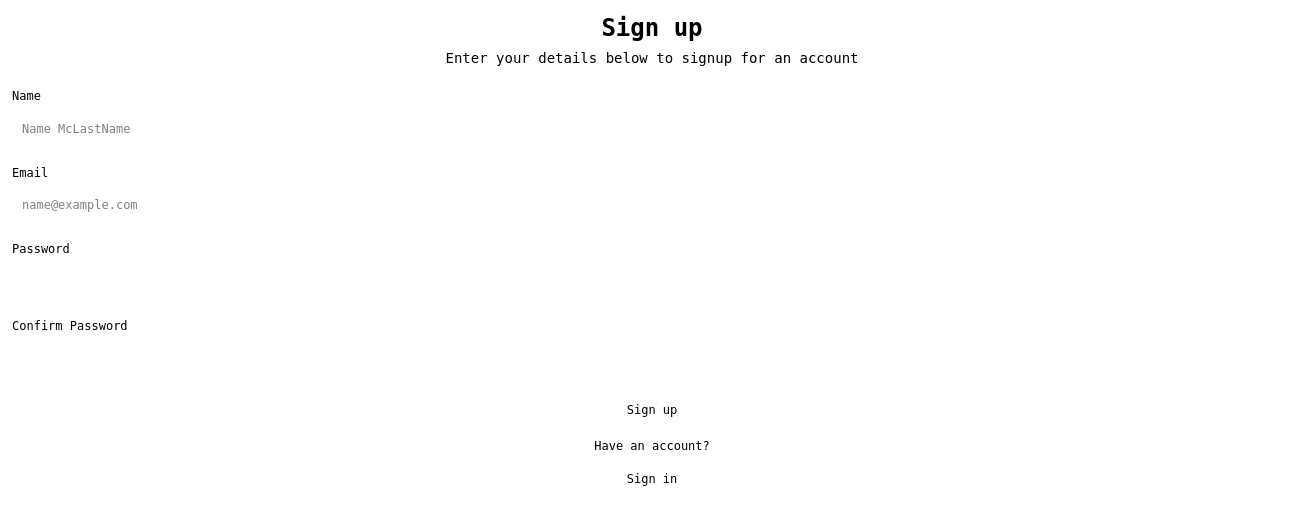
Test: SignupForm › validation › shows email error for invalid email
This screenshot has width=1304, height=527.
Type "invalid-email" into the field labelled "Email".
click(652, 205); type("invalid-email")  # box [12,189,1292,221]
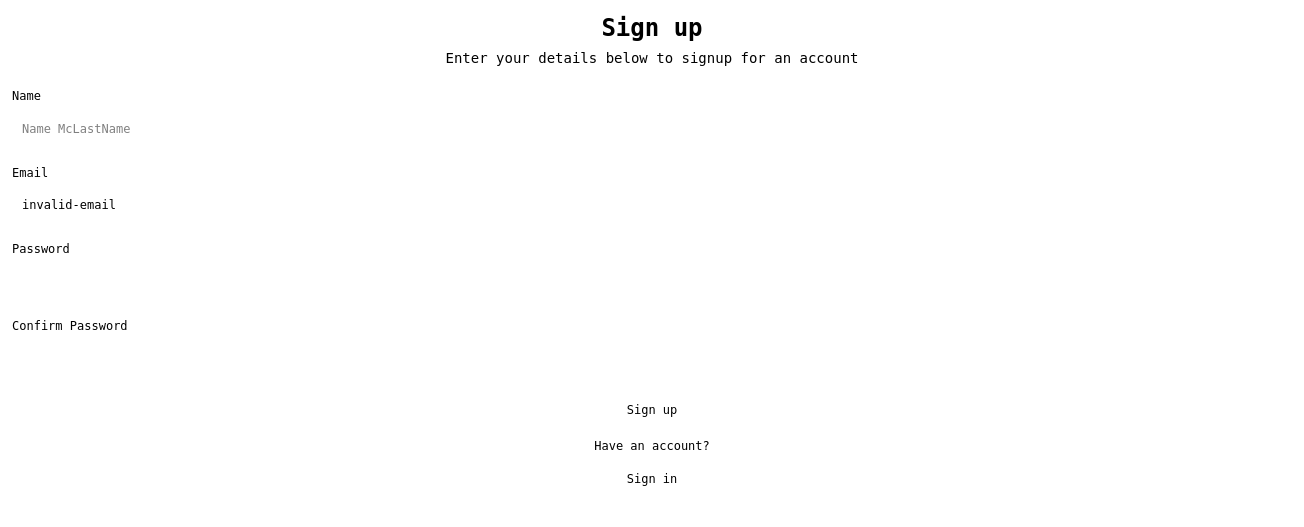
Press Tab
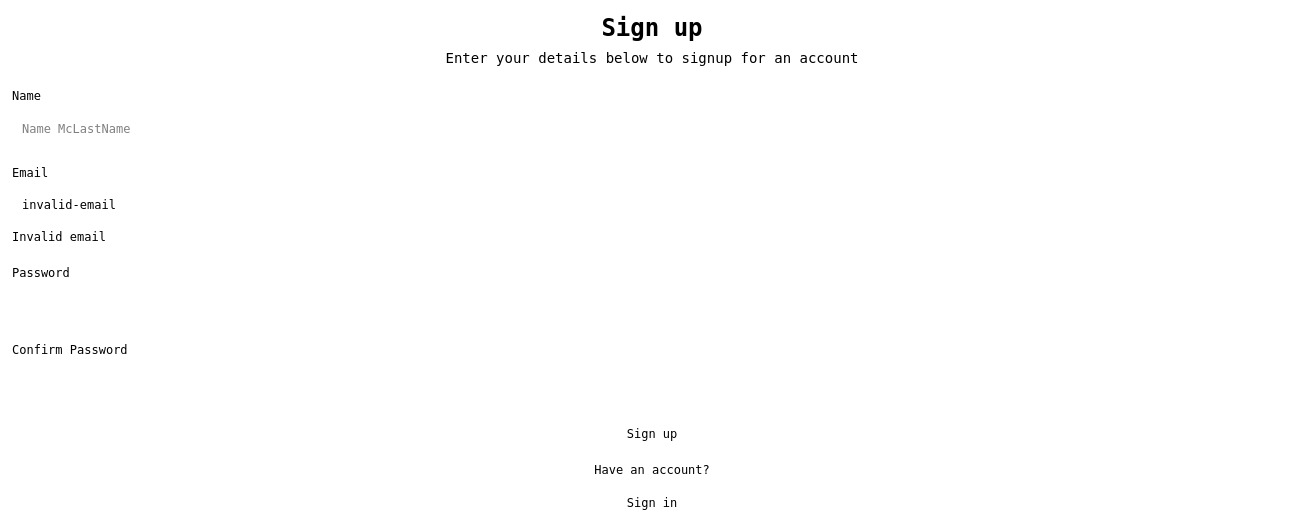
Expected: the text "Invalid email" is shown, [12,230,106,244]
